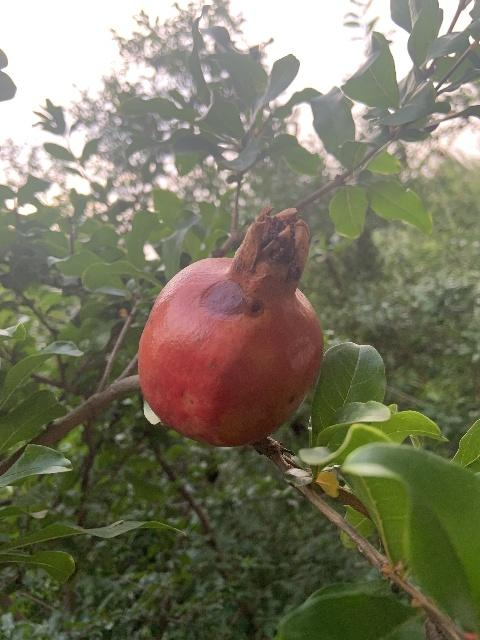ripe: (137, 203, 324, 447)
